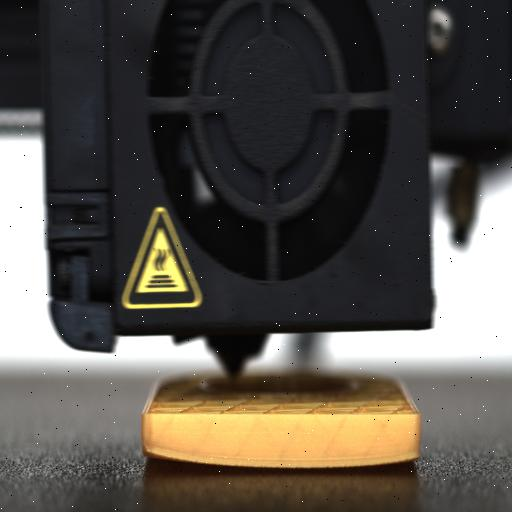warp: (141, 440, 199, 470), (373, 446, 423, 472)
